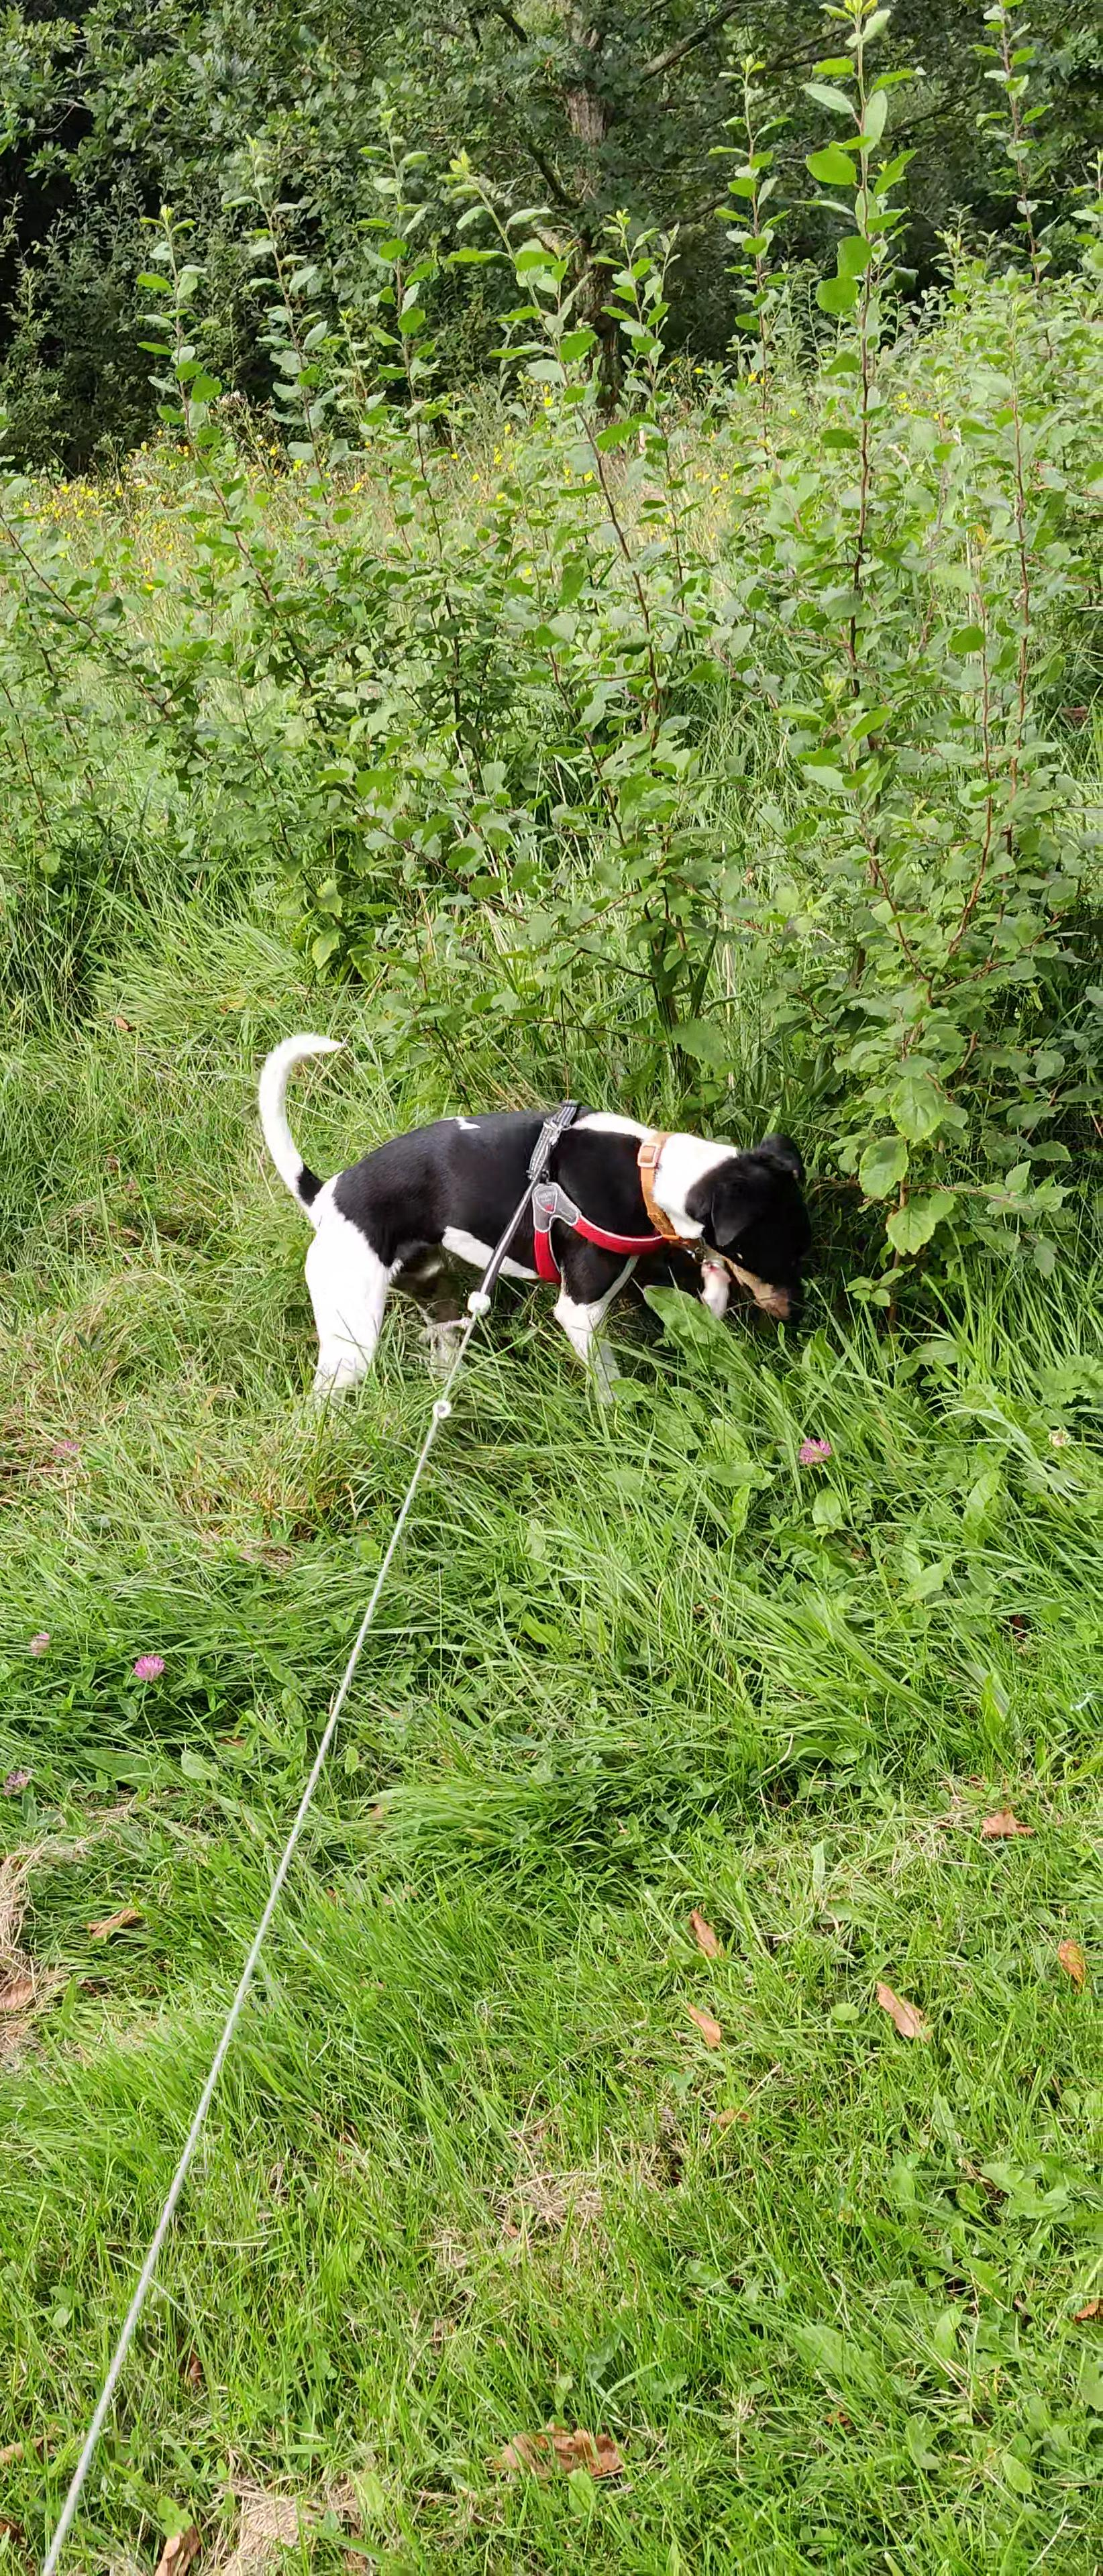Dog: (240, 1015, 850, 1410)
